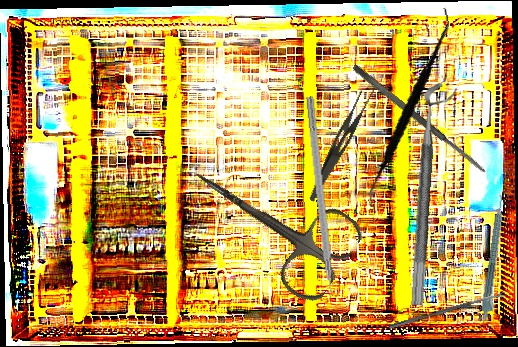Chopper: (294, 96, 337, 312)
Dressing Forceps: (308, 82, 377, 208)
Fixation Ring: (409, 82, 458, 307)
Handpiece: (479, 194, 512, 322)
Iris Scissors: (171, 132, 368, 309)
Spatula Surgical: (340, 7, 476, 208), (350, 62, 489, 177)
Surgical Spoon: (388, 291, 508, 330)
